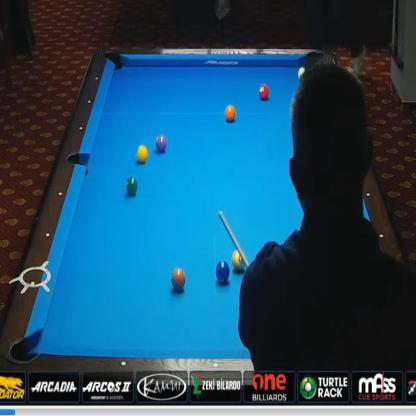Ball: (171, 268, 186, 291), (216, 260, 230, 284), (232, 249, 246, 272), (125, 176, 138, 195), (136, 144, 148, 163), (155, 135, 167, 152), (225, 105, 236, 122), (259, 84, 269, 100), (298, 67, 306, 79)
